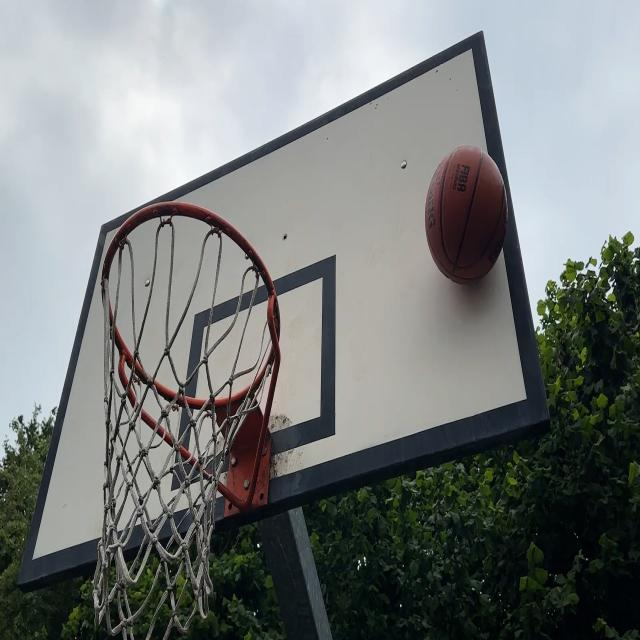rebound_hit: (422, 146, 508, 293)
